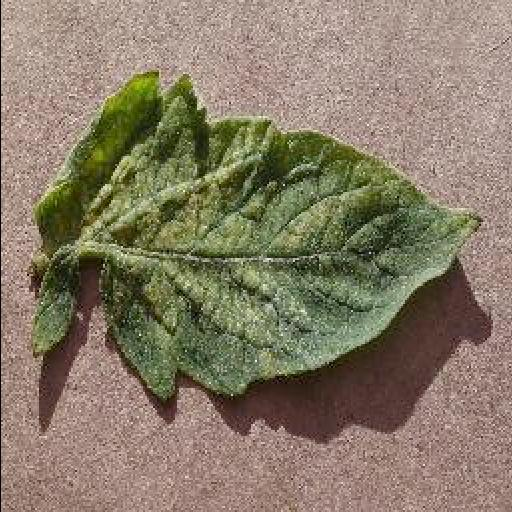disease_tomato: (28, 70, 486, 396)
